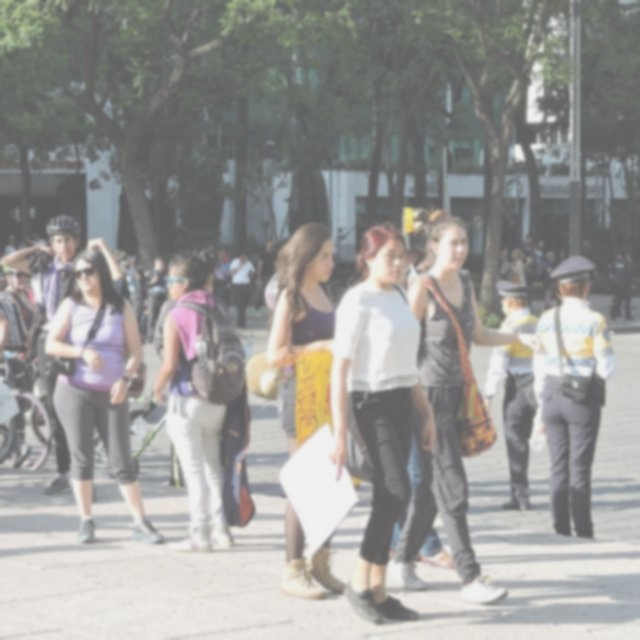pessoa: (390, 206, 546, 622), (328, 220, 442, 632), (0, 215, 124, 504), (44, 248, 164, 545), (265, 222, 347, 600), (152, 246, 248, 554), (532, 256, 616, 542), (388, 246, 459, 570), (155, 258, 233, 493), (482, 278, 540, 512), (1, 257, 40, 415), (140, 256, 168, 344), (252, 236, 278, 320), (608, 248, 636, 321), (230, 250, 256, 327), (125, 254, 148, 324), (0, 422, 33, 469), (214, 246, 234, 322), (194, 247, 232, 285), (608, 258, 638, 304), (614, 250, 634, 316), (536, 250, 556, 312), (580, 239, 598, 302), (15, 243, 48, 273), (520, 234, 538, 284), (530, 239, 546, 283), (556, 248, 568, 306), (510, 248, 528, 286), (26, 231, 49, 257), (497, 245, 512, 282), (517, 249, 532, 284), (139, 305, 150, 347), (0, 310, 10, 356), (112, 249, 128, 274), (4, 235, 20, 256), (509, 178, 522, 200), (125, 254, 133, 269)
